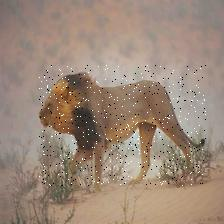Lion: (40, 65, 207, 186)
